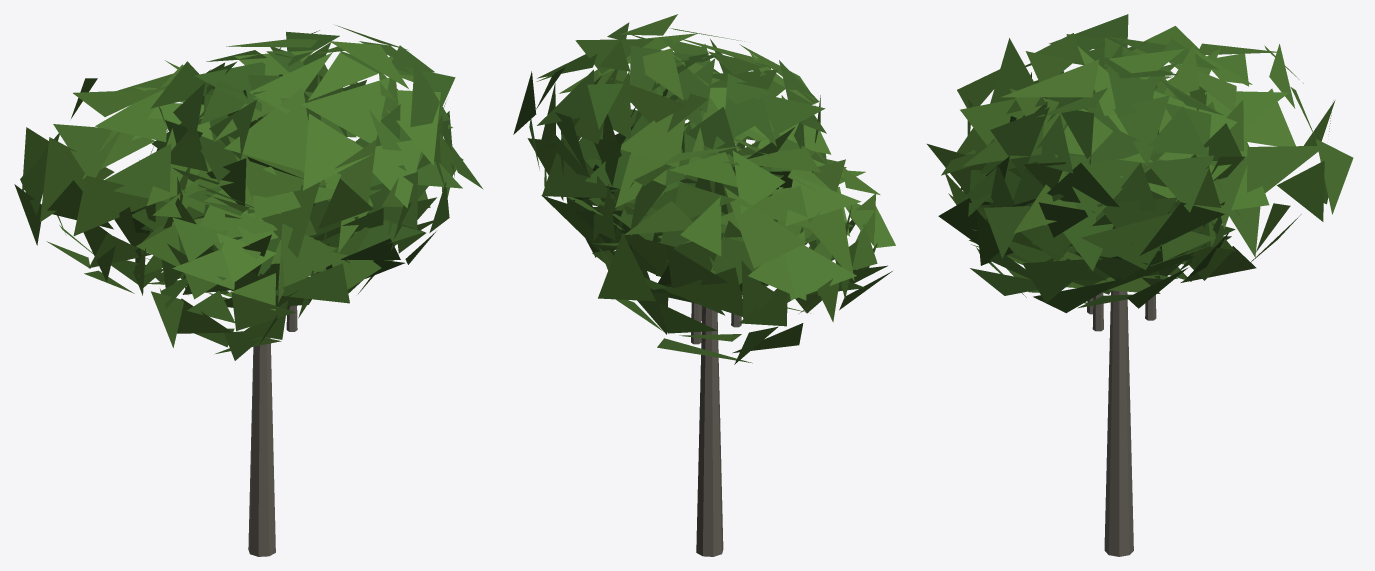
Rendered from beech_a.glb.
3 renders of one model, left to right at view 1: azimuth 30°, elevation 25°; view 2: azimuth 150°, elevation 25°; view 3: azimuth 270°, elevation 25°, orthographic. The views are drawn at different scales.
Parts seen in each view (by area): view 1: beech; view 2: beech; view 3: beech.
Boxes of the visible parts, bbox=[...] form: beech: bbox=[14, 25, 483, 556]; beech: bbox=[513, 14, 895, 556]; beech: bbox=[927, 14, 1353, 556].
Bounding box in the file's own units: 12.63 × 16.4 × 12.38.
